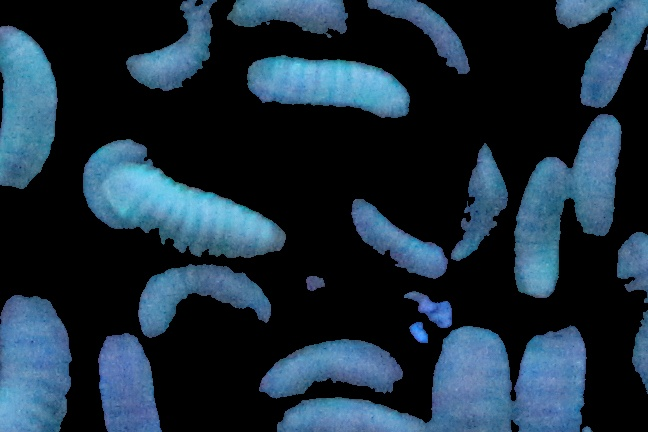larvae: (108, 163, 286, 257), (247, 54, 409, 120), (1, 289, 72, 432), (1, 15, 59, 189), (138, 266, 273, 337), (430, 324, 514, 432), (256, 337, 402, 399), (127, 1, 216, 94), (513, 158, 571, 300), (515, 324, 590, 432), (365, 1, 471, 77), (447, 144, 511, 267), (351, 198, 447, 280), (580, 1, 648, 107), (96, 336, 166, 432), (571, 116, 623, 237), (81, 140, 145, 235), (280, 395, 430, 432), (225, 1, 351, 39)
